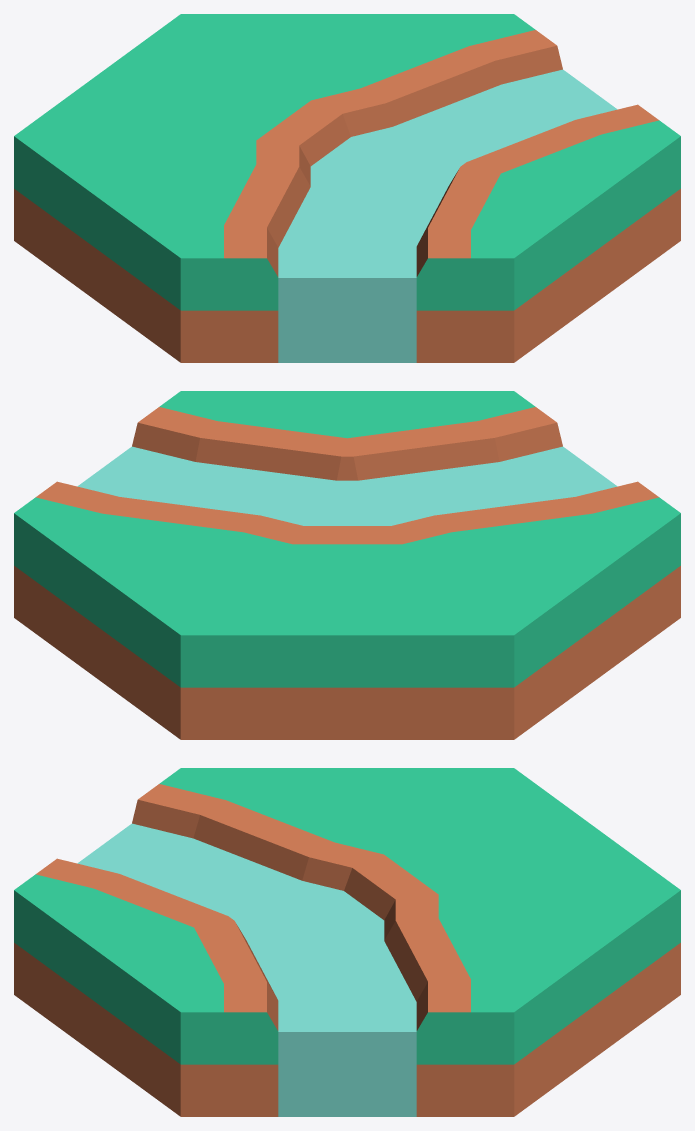
The model's file is River Corner.glb.
The picture shows the model from 3 angles, top to bottom: view 1: azimuth 30°, elevation 25°; view 2: azimuth 150°, elevation 25°; view 3: azimuth 270°, elevation 25°; orthographic projection.
Parts seen in each view (by area): view 1: river_corner; view 2: river_corner; view 3: river_corner.
Part boxes in pixels (bbox=[...]): river_corner: bbox=[14, 14, 680, 362]; river_corner: bbox=[14, 391, 680, 739]; river_corner: bbox=[14, 768, 680, 1116].
Size of the model in its own units: 1 by 0.2 by 1.15.
